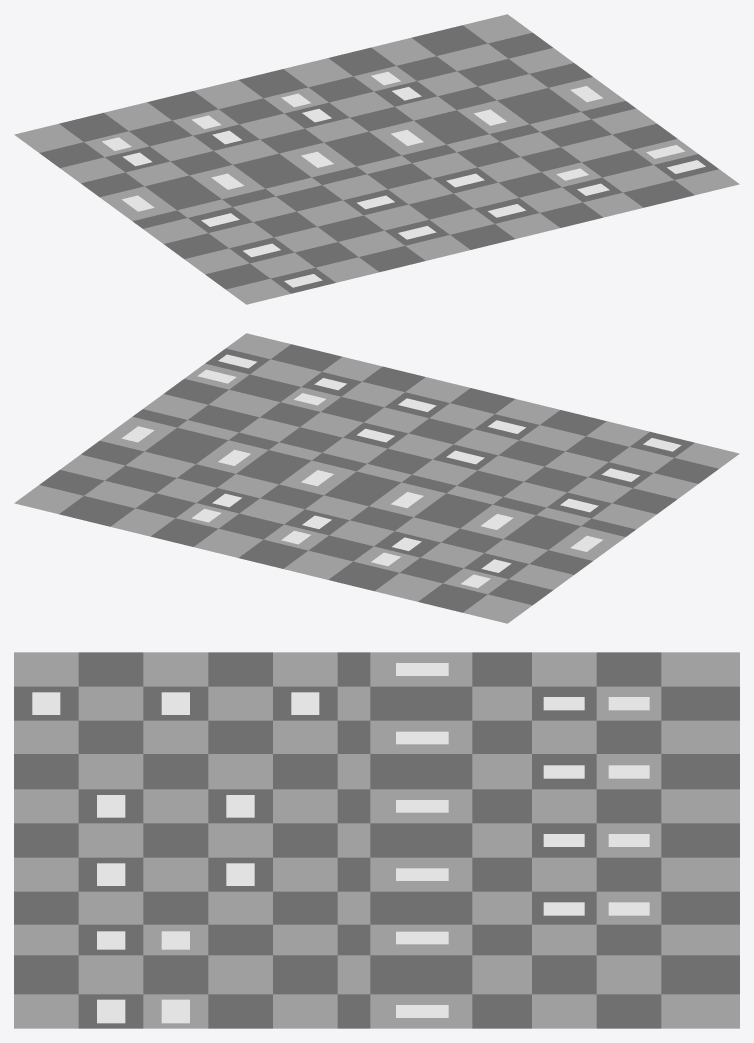
Rendered from tianhuaban.fbx.
3 views of the same model, one above another, from view 1: azimuth 30°, elevation 25°; view 2: azimuth 150°, elevation 25°; view 3: azimuth 270°, elevation 25° (orthographic). The views are drawn at different scales.
Visible parts, largest first — view 1: TianHuaBan; view 2: TianHuaBan; view 3: TianHuaBan.
Boxes of the visible parts, x1,y1,x2,y2 form: TianHuaBan: (14,14,739,304); TianHuaBan: (14,333,739,623); TianHuaBan: (14,652,739,1028).
Size of the model in its own units: 2751 by 3.05e-05 by 2244.
